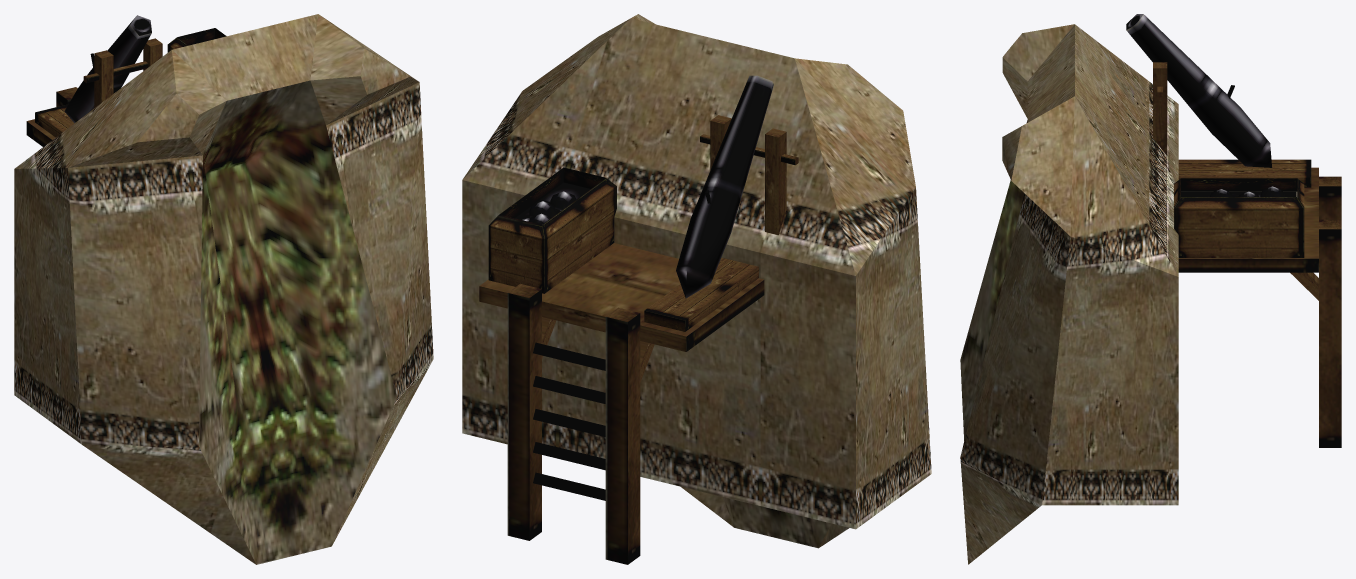
The model's file is StoneMuWall04.glb.
The picture shows the model from 3 angles, left to right: view 1: azimuth 30°, elevation 25°; view 2: azimuth 150°, elevation 25°; view 3: azimuth 270°, elevation 25°; orthographic projection. The views are drawn at different scales.
Parts seen in each view (by area): view 1: StoneMuWall04; view 2: StoneMuWall04; view 3: StoneMuWall04.
Part boxes in pixels (x1,y1,x2,y2): StoneMuWall04: [14, 14, 433, 564]; StoneMuWall04: [462, 14, 931, 564]; StoneMuWall04: [960, 14, 1341, 564].
Bounding box in the file's own units: 3 × 4.03 × 2.79.
3 materials, 3 textured.
